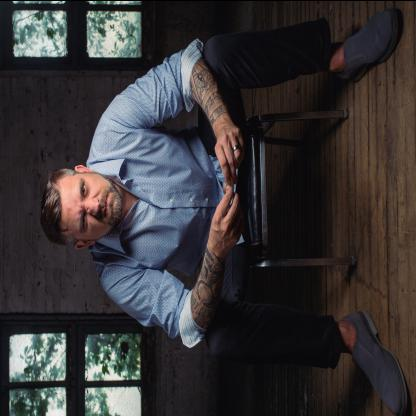Eye: (80, 180, 88, 198), (81, 209, 87, 231)
Mouth: (102, 194, 110, 218)
Nose: (84, 197, 100, 214)
